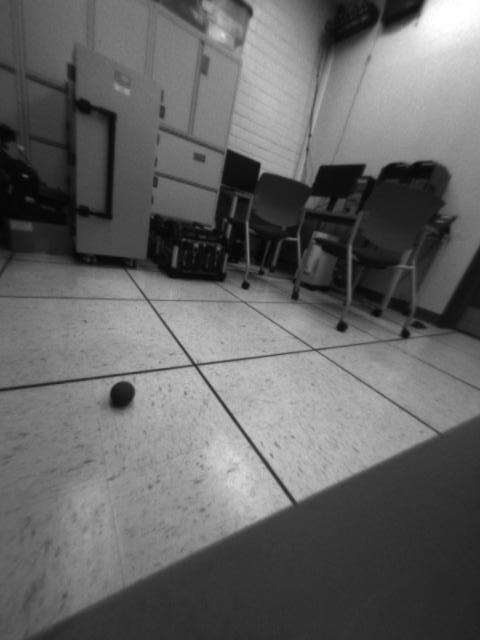dogtoy: (101, 374, 140, 411)
